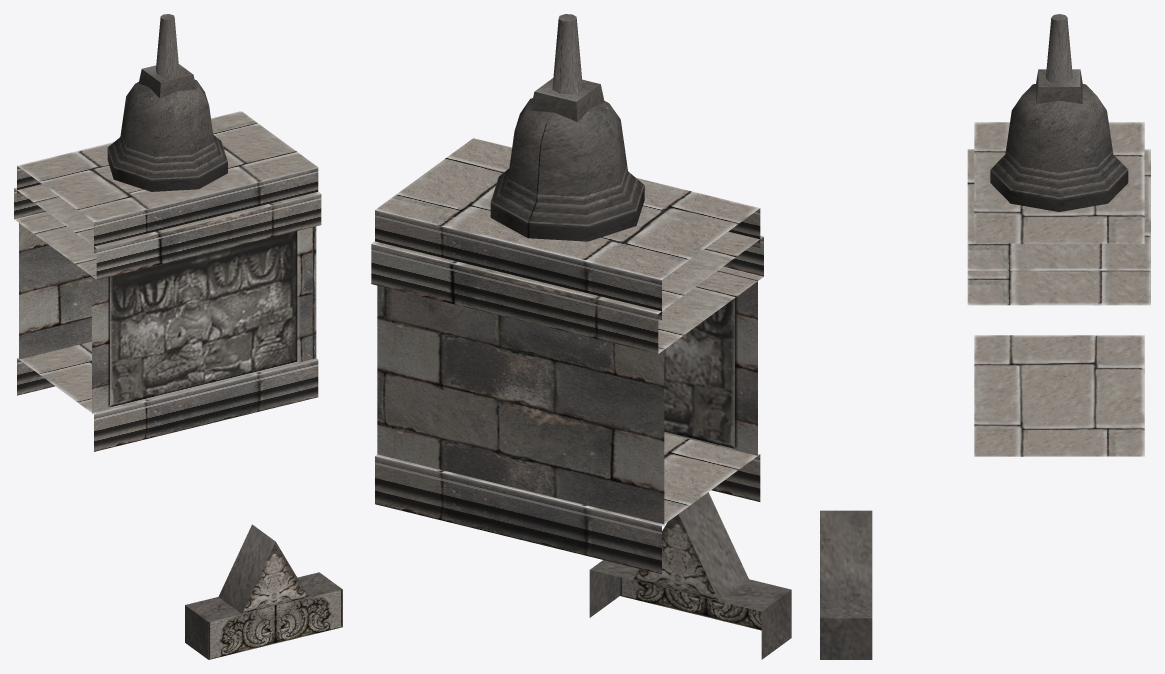
Rendered from Modul_C.FBX.
3 renders of one model, left to right at view 1: azimuth 30°, elevation 25°; view 2: azimuth 150°, elevation 25°; view 3: azimuth 270°, elevation 25°, orthographic. The views are drawn at different scales.
Visible parts, largest first — view 1: Modul_C; view 2: Modul_C; view 3: Modul_C.
Boxes of the visible parts, box(x1,y1,x2,y2) form: Modul_C: box(14, 14, 342, 659); Modul_C: box(371, 14, 791, 659); Modul_C: box(820, 14, 1150, 659).
Size of the model in its own units: 1.04 by 2.44 by 1.21.
